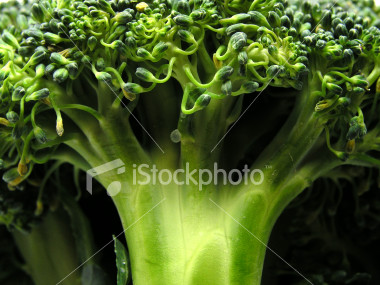broccoli: (1, 0, 379, 284)
